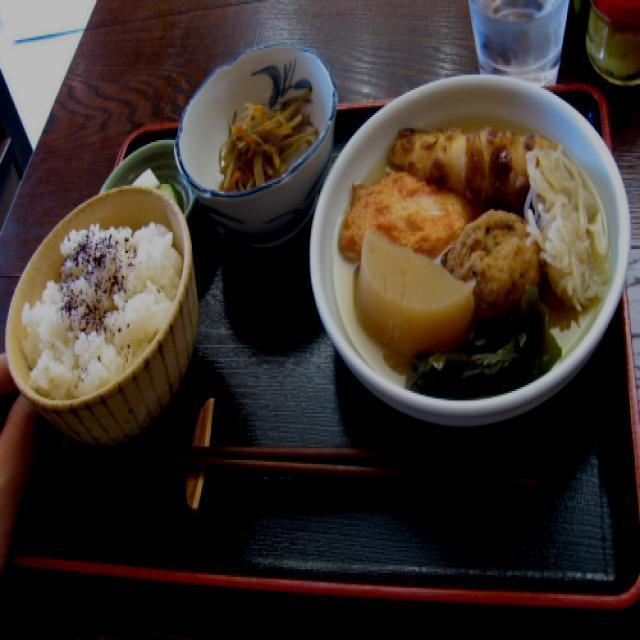oden: (333, 122, 614, 398)
